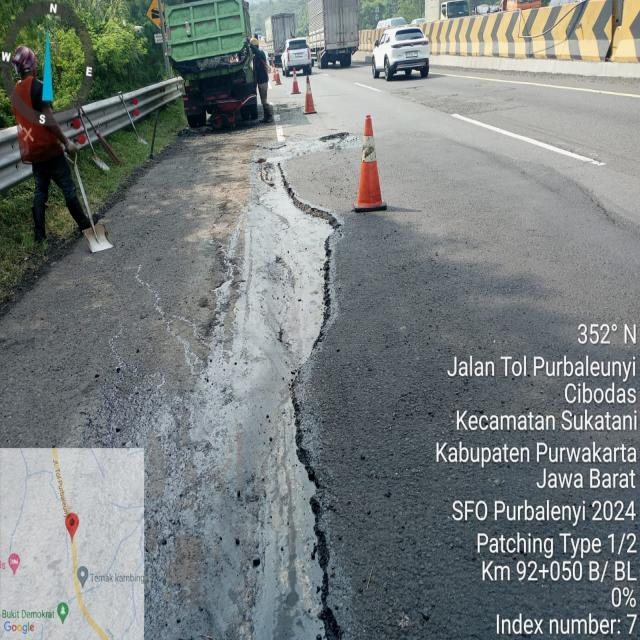Buraco: (247, 155, 278, 191), (317, 130, 352, 152)
